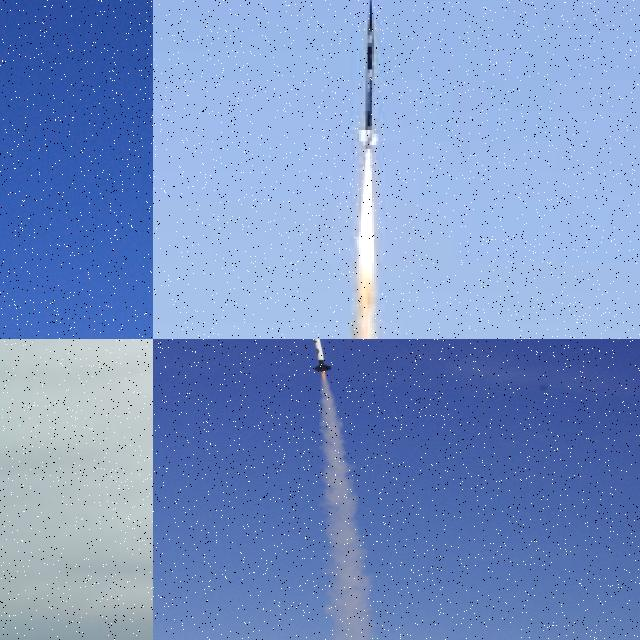Rocket: (359, 0, 381, 152), (308, 339, 332, 372)
